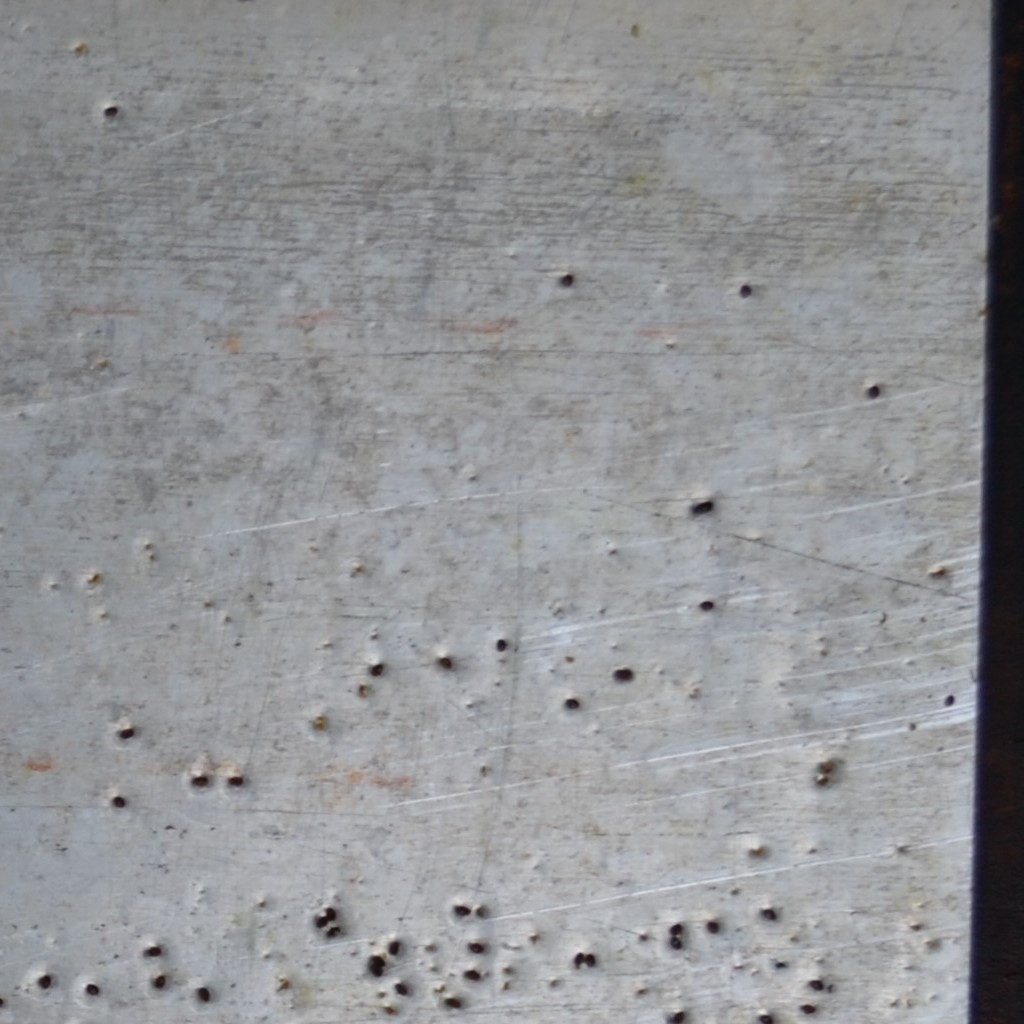varroa: (689, 498, 715, 520), (611, 663, 637, 685), (392, 976, 413, 998), (188, 771, 211, 791), (758, 904, 781, 923), (666, 932, 686, 953), (460, 966, 484, 983), (117, 723, 137, 743), (225, 771, 246, 790), (466, 938, 486, 957), (34, 972, 53, 992), (434, 654, 455, 672), (439, 995, 466, 1009), (369, 657, 385, 680), (109, 792, 127, 812), (494, 635, 511, 656), (663, 1008, 686, 1023), (385, 938, 403, 957), (666, 920, 686, 937), (366, 962, 388, 977), (807, 977, 825, 995), (799, 1002, 818, 1019), (705, 916, 721, 936), (451, 902, 471, 918), (697, 598, 718, 613), (142, 944, 164, 958), (558, 272, 575, 290), (865, 383, 882, 401), (312, 912, 330, 929), (325, 923, 343, 940), (100, 105, 119, 121), (941, 690, 957, 709), (369, 951, 388, 967), (151, 971, 167, 990), (570, 949, 587, 966), (196, 985, 212, 1003), (83, 981, 102, 996), (584, 950, 598, 970), (737, 283, 753, 300), (562, 696, 580, 711), (772, 957, 790, 972), (324, 904, 339, 920), (756, 1011, 775, 1022)
